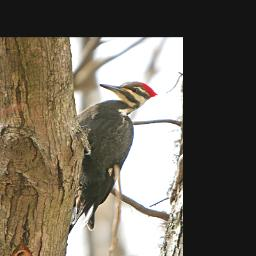Woodpecker: (66, 81, 159, 236)
